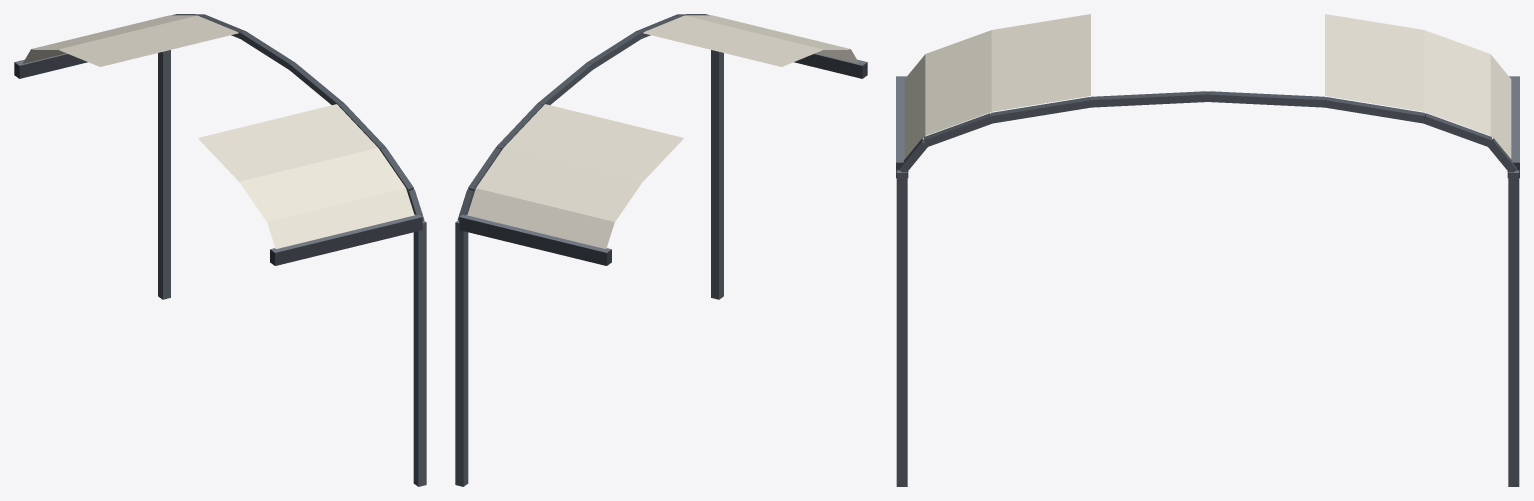
The model's file is ArcadeRoof.fbx.
3 views of the same model, side by side, from view 1: azimuth 30°, elevation 25°; view 2: azimuth 150°, elevation 25°; view 3: azimuth 270°, elevation 25° (orthographic). The views are drawn at different scales.
Parts seen in each view (by area): view 1: Panels, Posts, Beams, Ribs; view 2: Panels, Posts, Beams, Ribs; view 3: Panels, Posts, Ribs, Beams.
Boxes of the visible parts, x1,y1,x2,y2 form: Panels: [23, 15, 414, 248]; Posts: [158, 50, 426, 486]; Beams: [14, 53, 422, 265]; Ribs: [172, 14, 424, 220]; Panels: [467, 15, 858, 248]; Posts: [455, 50, 723, 486]; Beams: [459, 53, 867, 265]; Ribs: [457, 14, 709, 220]; Panels: [904, 14, 1511, 158]; Posts: [896, 170, 1519, 486]; Ribs: [899, 91, 1516, 172]; Beams: [896, 76, 1519, 178].
Size of the model in its own units: 4.11 by 8.48 by 12.24.
